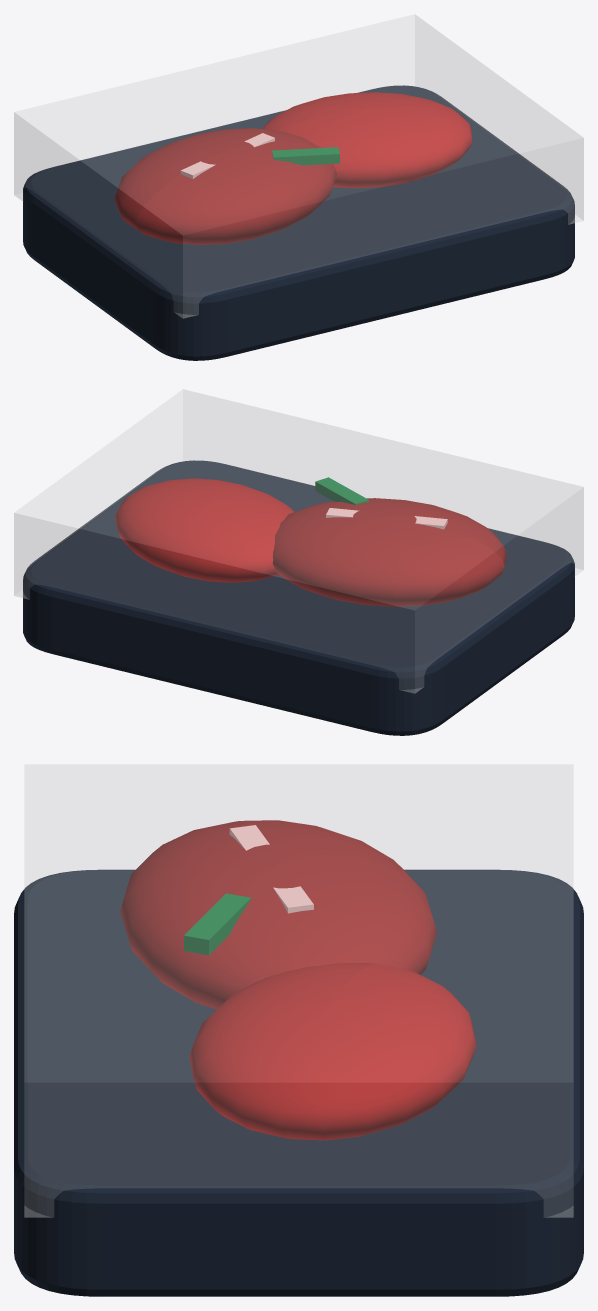
The model's file is meat-tray.glb.
3 renders of one model, top to bottom at view 1: azimuth 30°, elevation 25°; view 2: azimuth 150°, elevation 25°; view 3: azimuth 270°, elevation 25°, orthographic. The views are drawn at different scales.
Visible parts, largest first — view 1: Stretch_Film, Butcher_Tray, Meat_Cut_01, Meat_Cut_02, Herb_Sprig, Marble_Stripe_01; view 2: Stretch_Film, Butcher_Tray, Meat_Cut_01, Meat_Cut_02, Herb_Sprig, Marble_Stripe_01; view 3: Stretch_Film, Butcher_Tray, Meat_Cut_02, Meat_Cut_01, Herb_Sprig, Marble_Stripe_01.
Part boxes in pixels (x1,y1,x2,y2): Stretch_Film: [14, 14, 583, 318]; Butcher_Tray: [23, 85, 574, 360]; Meat_Cut_01: [114, 128, 336, 245]; Meat_Cut_02: [262, 92, 472, 188]; Herb_Sprig: [271, 147, 339, 165]; Marble_Stripe_01: [180, 133, 274, 178]; Stretch_Film: [14, 389, 583, 693]; Butcher_Tray: [23, 460, 574, 735]; Meat_Cut_01: [272, 498, 506, 606]; Meat_Cut_02: [115, 478, 294, 582]; Herb_Sprig: [315, 477, 368, 504]; Marble_Stripe_01: [326, 508, 447, 529]; Stretch_Film: [24, 764, 573, 1217]; Butcher_Tray: [14, 869, 583, 1296]; Meat_Cut_02: [189, 963, 476, 1140]; Meat_Cut_01: [120, 820, 436, 1009]; Herb_Sprig: [184, 893, 251, 955]; Marble_Stripe_01: [229, 825, 313, 913].
Size of the model in its own units: 0.228 by 0.07 by 0.168.
